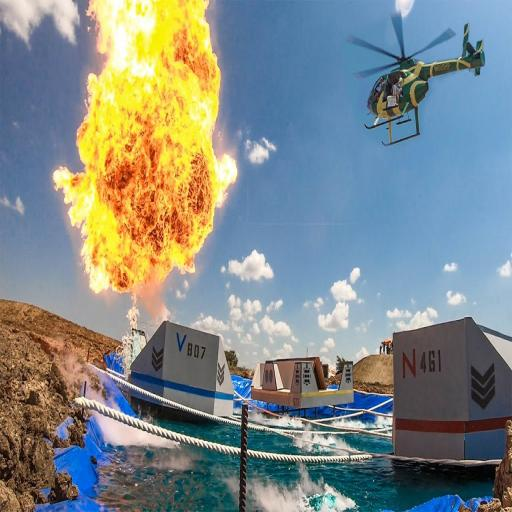helicopter: (352, 3, 501, 158)
